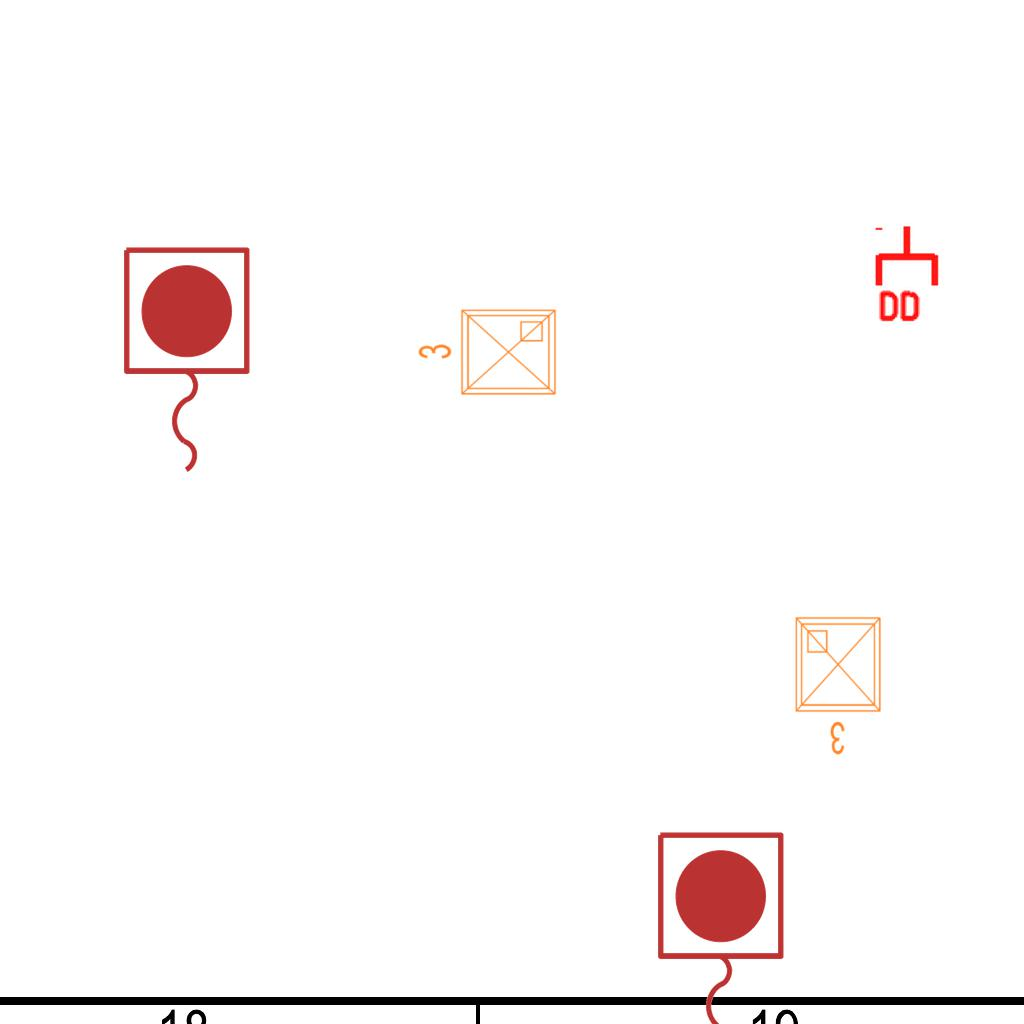Datenanschluss_zweifach: (874, 223, 943, 326)
Einbaudownlights_LED_Konferenzraeume: (788, 610, 892, 760), (413, 302, 563, 406)
Zugtaster: (113, 239, 257, 483), (647, 824, 791, 1024)
